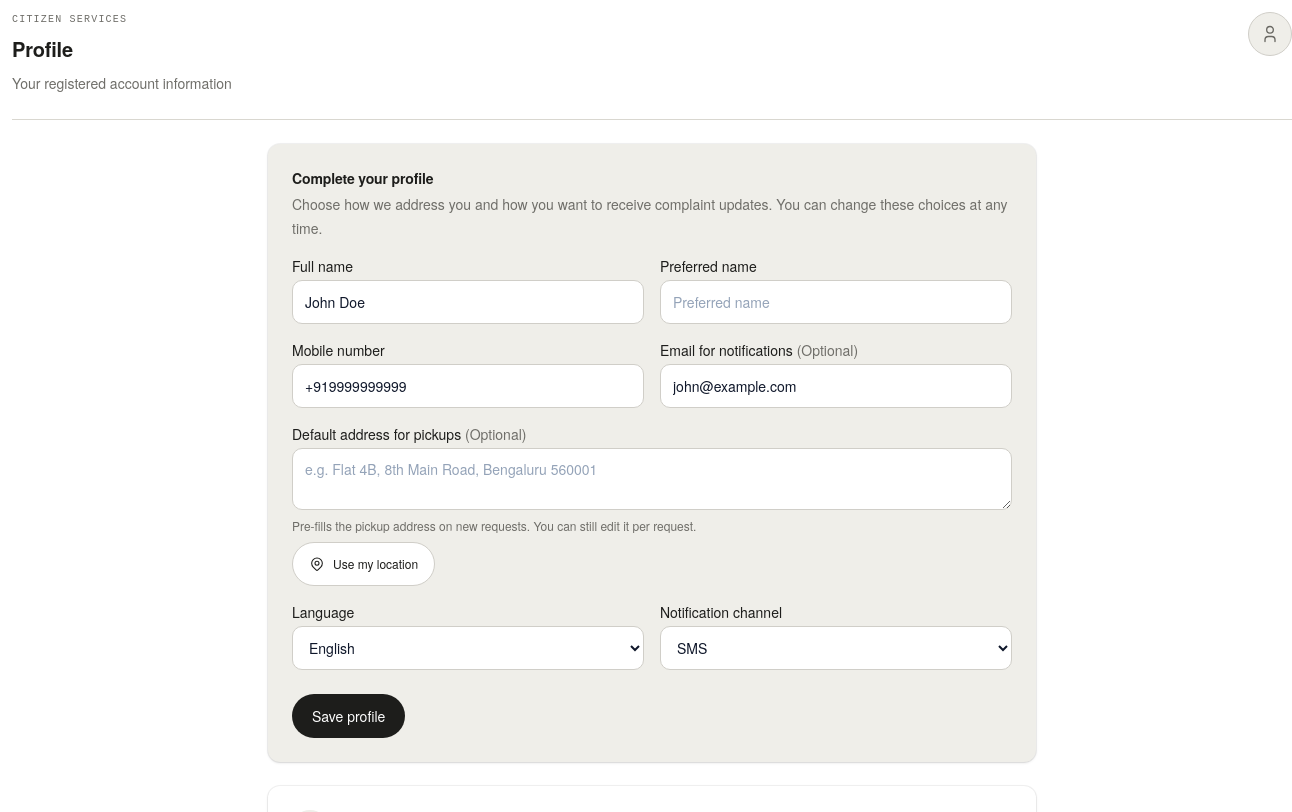
Test case: ProfilePage › requires a phone number before saving
Clear the field labelled "Mobile number" at (468, 386), box [292, 364, 644, 408]
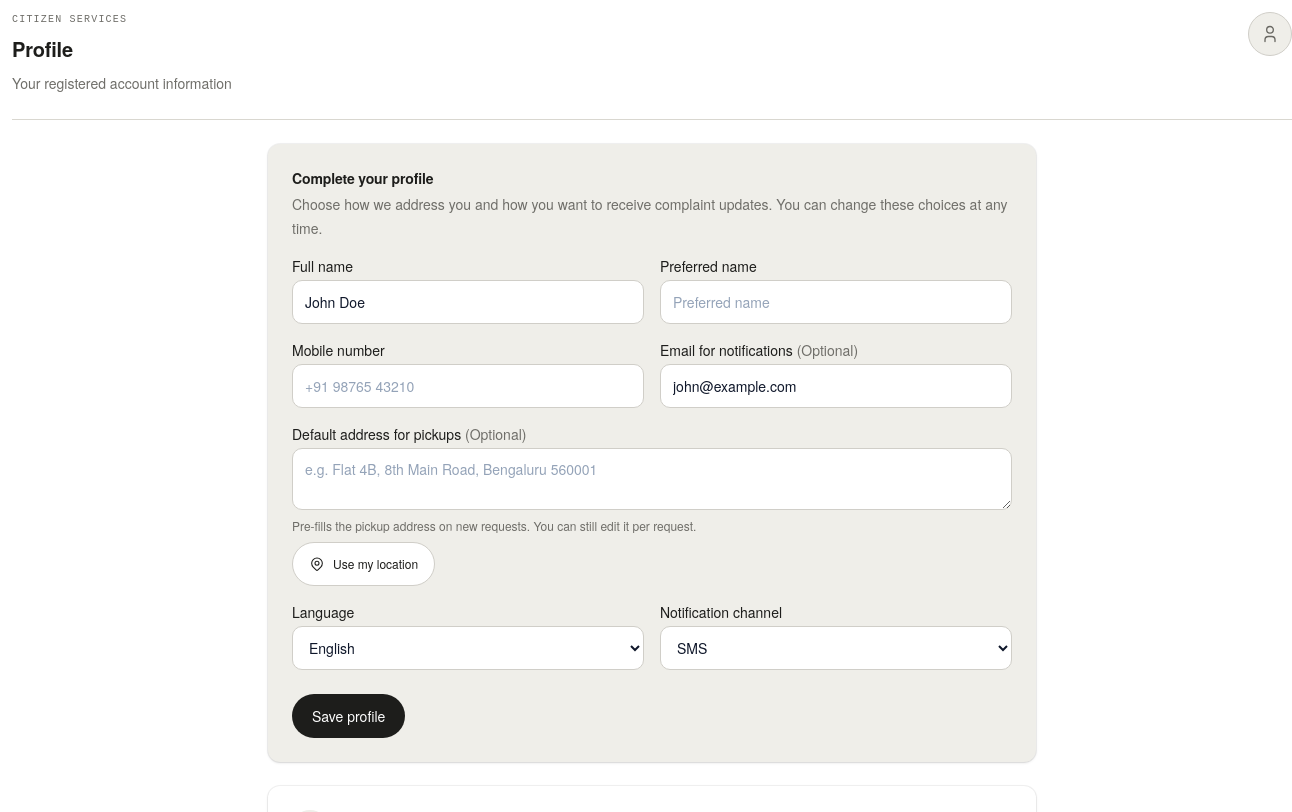
Click the button "Save profile" at (349, 716), box [292, 694, 405, 738]
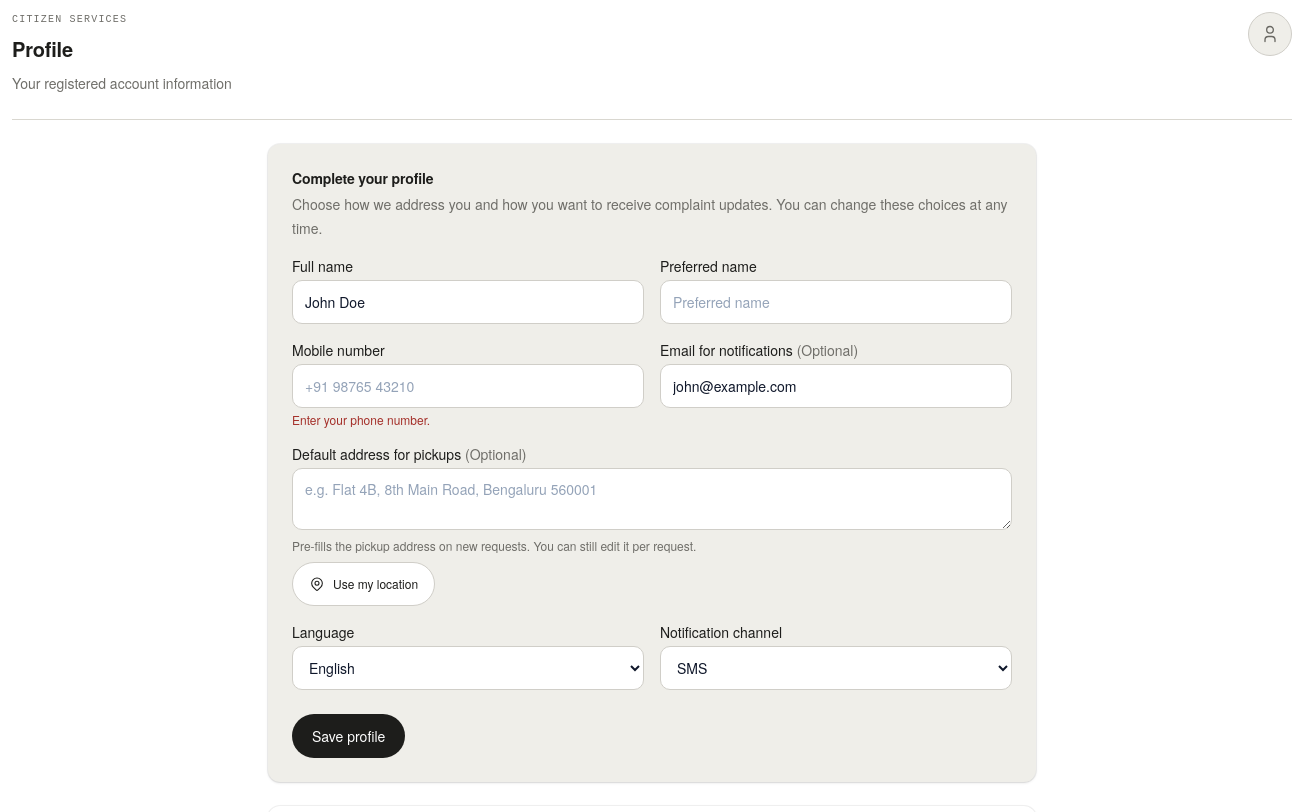
Now the text "Enter your phone number." is shown, box [292, 411, 430, 428]
